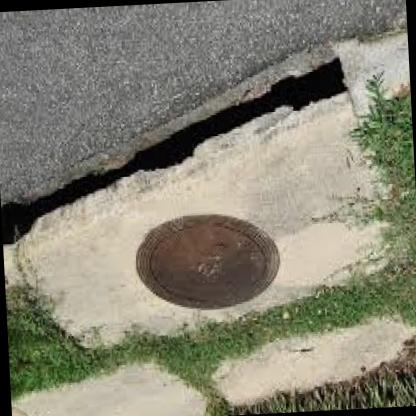manholes: (104, 183, 316, 360)
